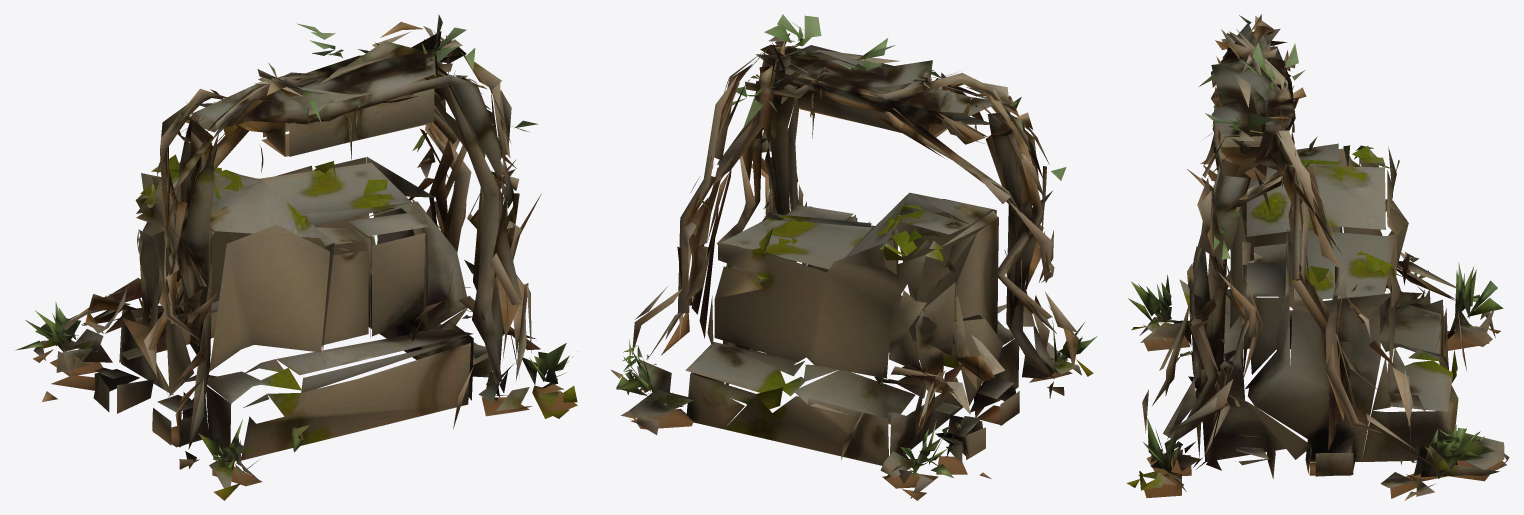
Rendered from jun_root_arch_over_stone_LOD3.glb.
The picture shows the model from 3 angles, left to right: view 1: azimuth 30°, elevation 25°; view 2: azimuth 150°, elevation 25°; view 3: azimuth 270°, elevation 25°; orthographic projection. The views are drawn at different scales.
Visible parts, largest first — view 1: tripo_node_2b6c4d80-21eb-4c0a-b062-b441cd52e211; view 2: tripo_node_2b6c4d80-21eb-4c0a-b062-b441cd52e211; view 3: tripo_node_2b6c4d80-21eb-4c0a-b062-b441cd52e211.
Part boxes in pixels (x1,y1,x2,y2): tripo_node_2b6c4d80-21eb-4c0a-b062-b441cd52e211: (15, 15, 578, 500); tripo_node_2b6c4d80-21eb-4c0a-b062-b441cd52e211: (611, 14, 1097, 500); tripo_node_2b6c4d80-21eb-4c0a-b062-b441cd52e211: (1126, 14, 1509, 500).
Size of the model in its own units: 1 by 0.8501 by 0.8122.
1 material, 1 textured.
